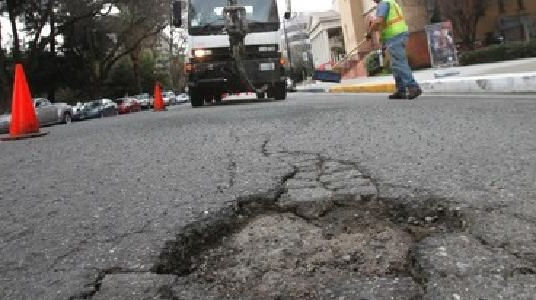pothole: (147, 186, 471, 299)
